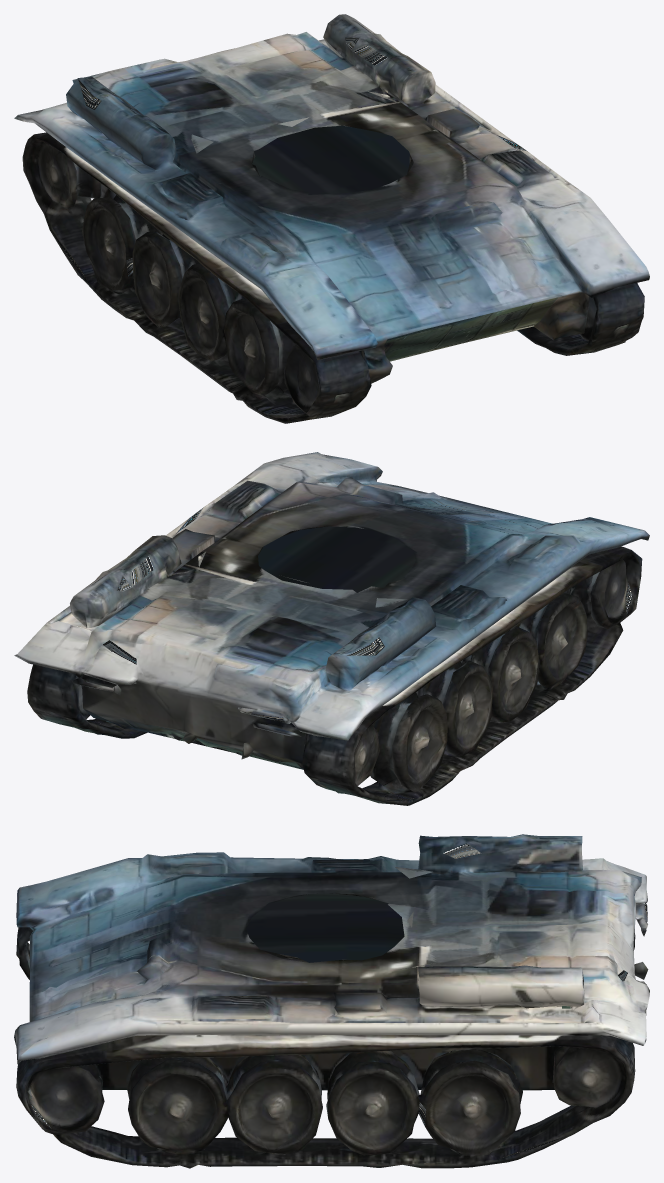
File: tank_01.dae
The picture shows the model from 3 angles, top to bottom: view 1: azimuth 30°, elevation 25°; view 2: azimuth 150°, elevation 25°; view 3: azimuth 270°, elevation 25°; orthographic projection. The views are drawn at different scales.
Visible parts, largest first — view 1: tank_01; view 2: tank_01; view 3: tank_01.
Part boxes in pixels (x1,y1,x2,y2): tank_01: [14, 14, 649, 423]; tank_01: [14, 452, 649, 805]; tank_01: [14, 834, 649, 1168].
Bounding box in the file's own units: 9.18 × 14.33 × 4.62.
